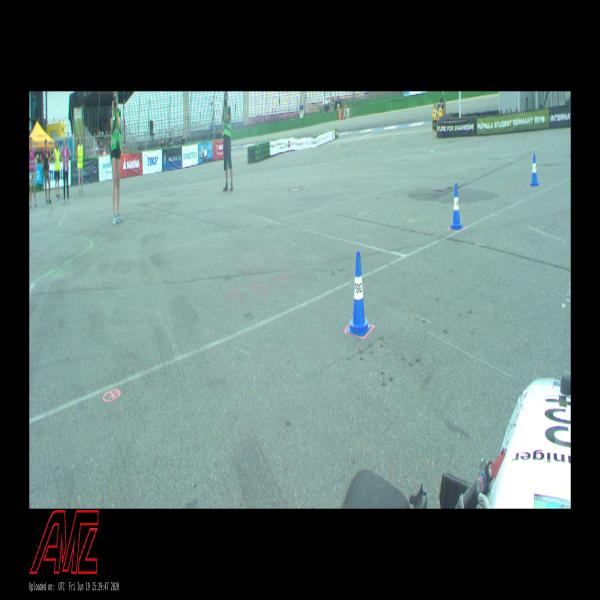blue_cone: (347, 251, 371, 336), (450, 183, 463, 230), (530, 154, 539, 186)
